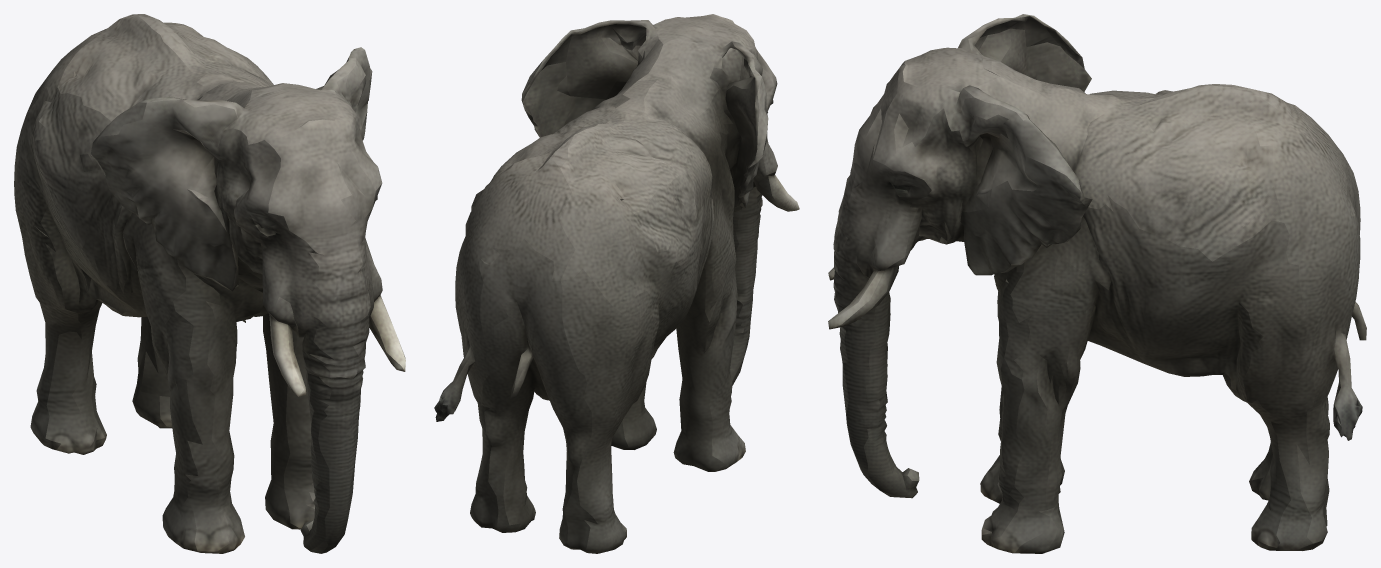
The picture shows the model from 3 angles, left to right: view 1: azimuth 30°, elevation 25°; view 2: azimuth 150°, elevation 25°; view 3: azimuth 270°, elevation 25°; orthographic projection. The views are drawn at different scales.
Visible parts, largest first — view 1: world; view 2: world; view 3: world.
Part boxes in pixels (box(x1,y1,x2,y2)): world: box(14, 14, 405, 553); world: box(434, 14, 799, 553); world: box(828, 14, 1366, 553).
Size of the model in its own units: 6 by 9.61 by 10.23.
Materials: 1 (1 with a texture image).
